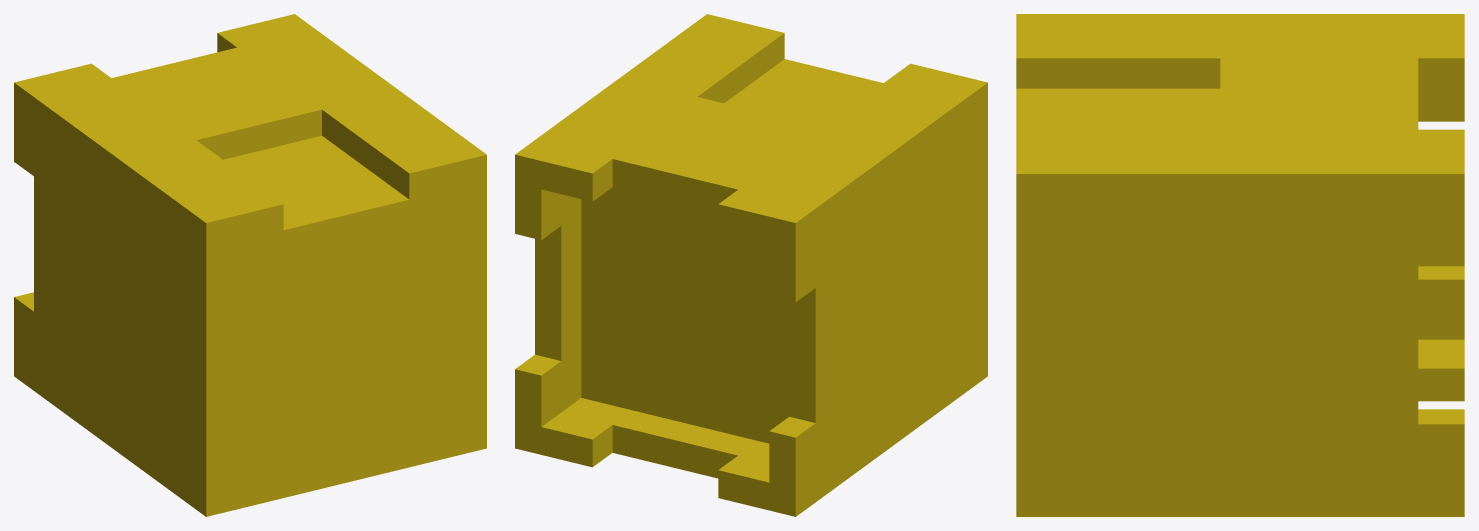
The model's file is barrack.fbx.
3 renders of one model, left to right at view 1: azimuth 30°, elevation 25°; view 2: azimuth 150°, elevation 25°; view 3: azimuth 270°, elevation 25°, orthographic. The views are drawn at different scales.
Parts seen in each view (by area): view 1: barrack; view 2: barrack; view 3: barrack.
Part boxes in pixels (x1=…): barrack: x1=14, y1=14, x2=486, y2=516; barrack: x1=515, y1=14, x2=987, y2=516; barrack: x1=1016, y1=14, x2=1464, y2=516.
Size of the model in its own units: 237 by 200 by 200.
